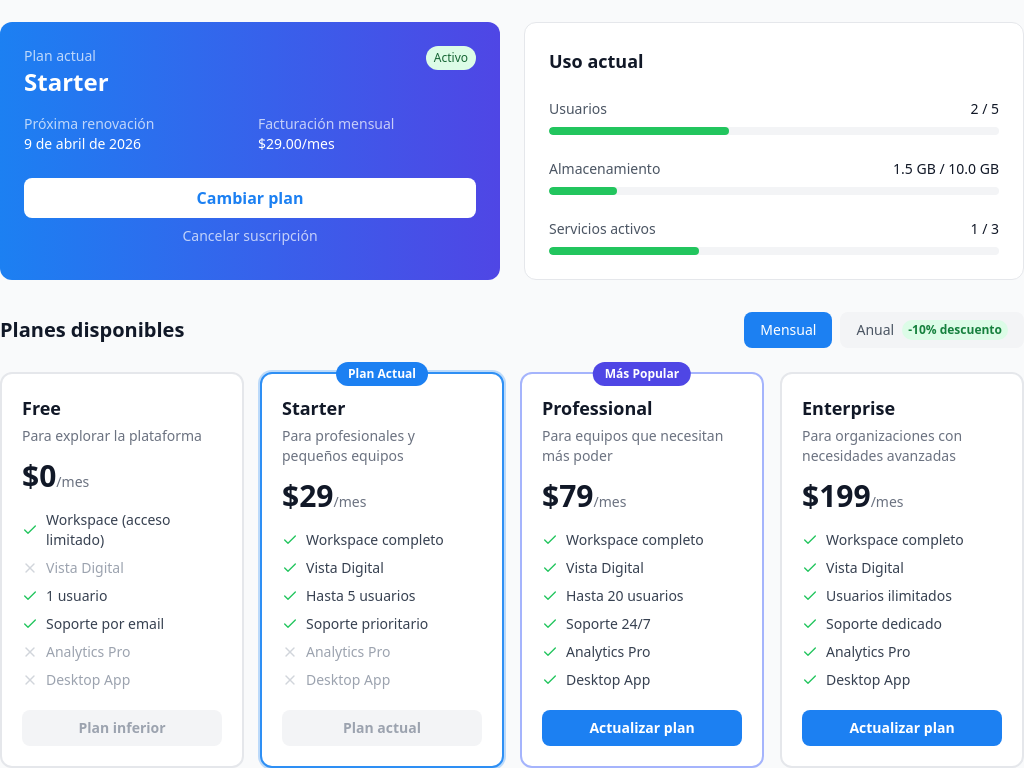
SubscriptionPage › cierra el modal de upgrade al hacer clic en Cancelar
The width and height of the screenshot is (1024, 768).
(page scrolled)
What coordinates should you click on to do the following:
click the button "Actualizar plan" below "Soporte 24/7"
I would click on:
 (642, 728)
Its box is [542, 710, 742, 746].
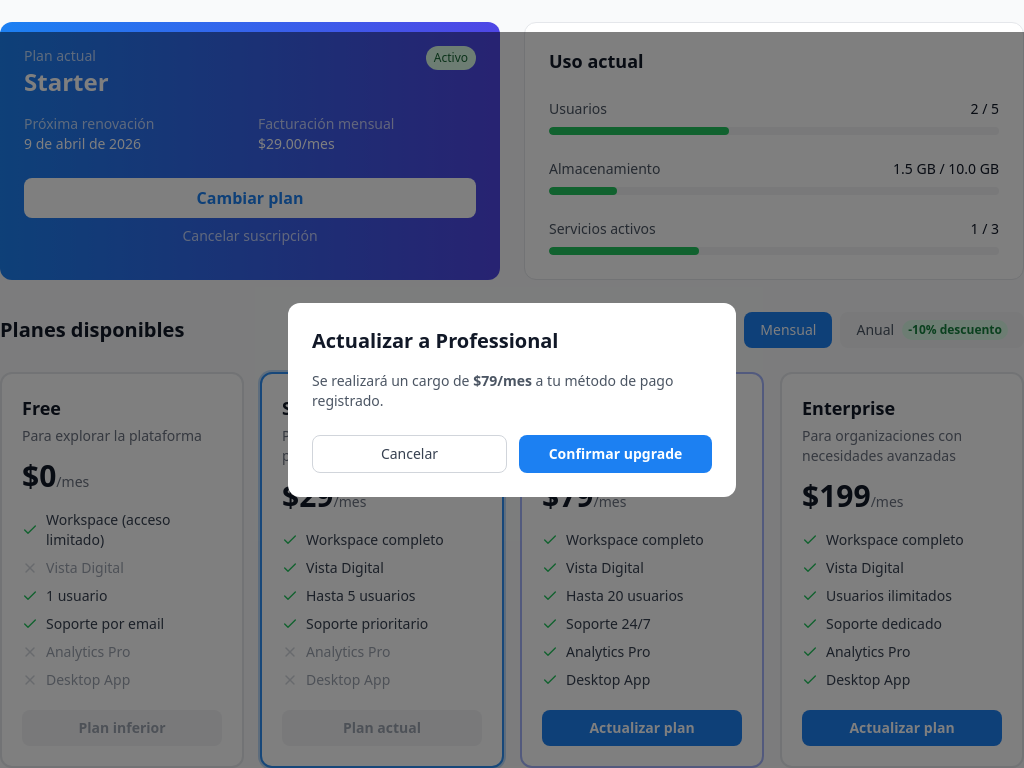
Now the dialog is shown, box [288, 303, 736, 497]
What coordinates should you click on to do the following:
click the button "Cancelar"
I would click on:
 (410, 454)
Its box is [312, 435, 507, 473].
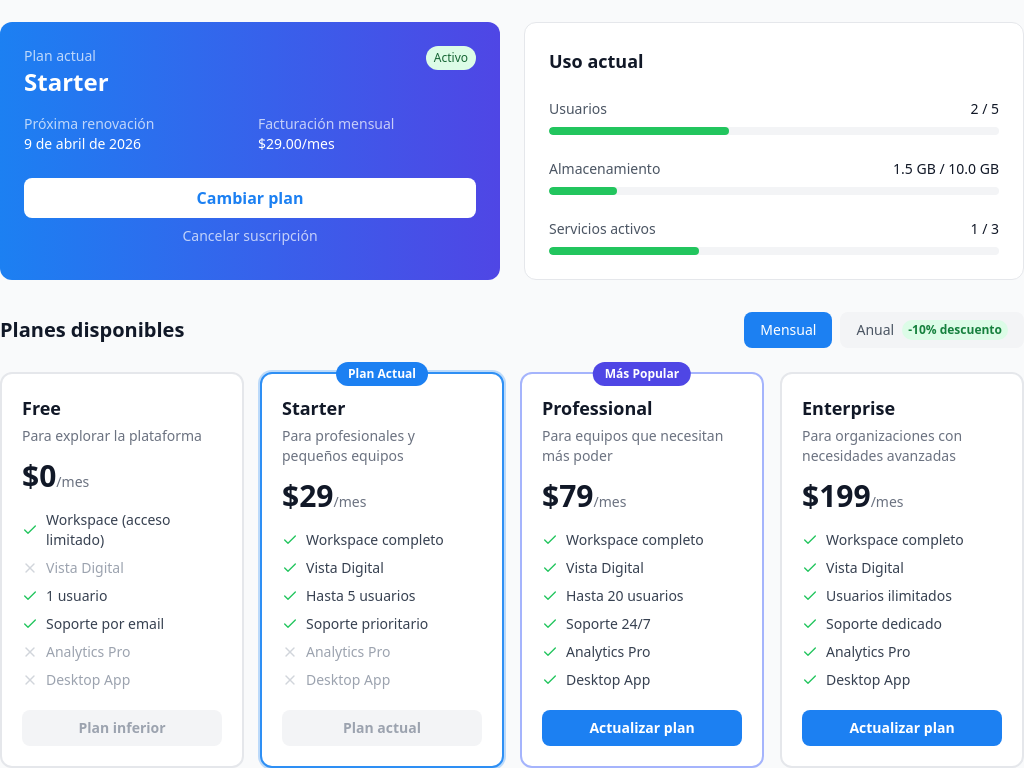
Now the dialog is gone
